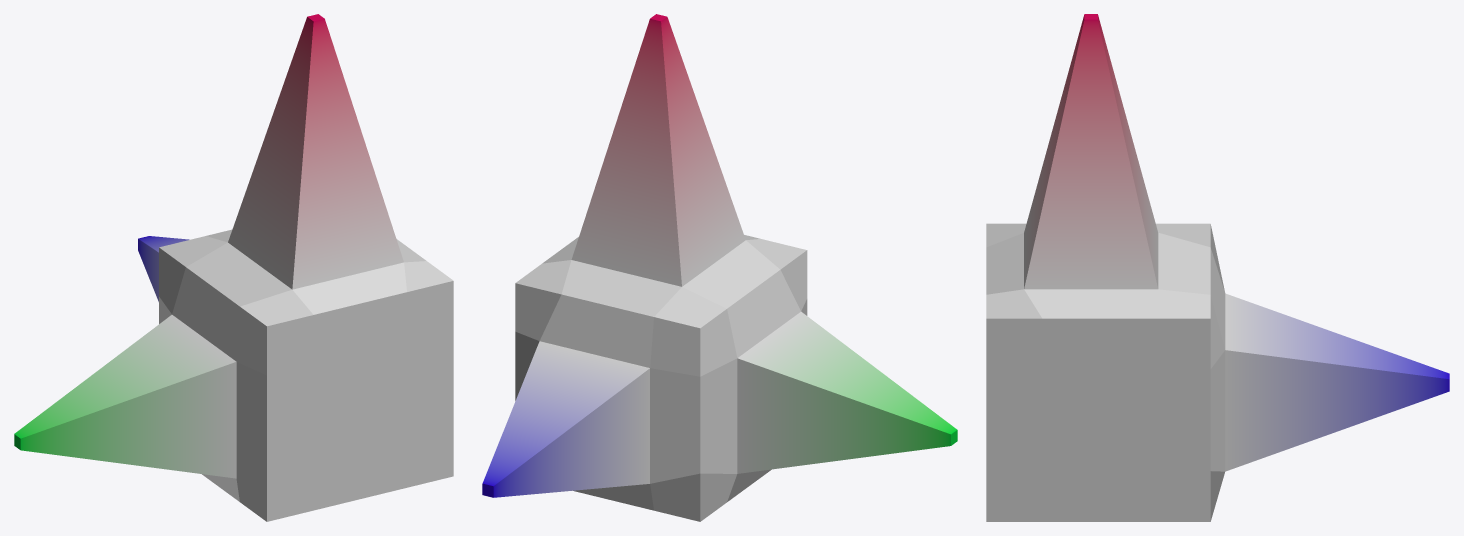
The model's file is gizmo.glb.
3 views of the same model, side by side, from view 1: azimuth 30°, elevation 25°; view 2: azimuth 150°, elevation 25°; view 3: azimuth 270°, elevation 25° (orthographic). The views are drawn at different scales.
Parts seen in each view (by area): view 1: Gizmo; view 2: Gizmo; view 3: Gizmo.
Boxes of the visible parts, box(x1,y1,x2,y2) form: Gizmo: box(14, 14, 453, 521); Gizmo: box(482, 14, 957, 521); Gizmo: box(986, 14, 1449, 521).
Bounding box in the file's own units: 20.65 × 22.65 × 20.65.
